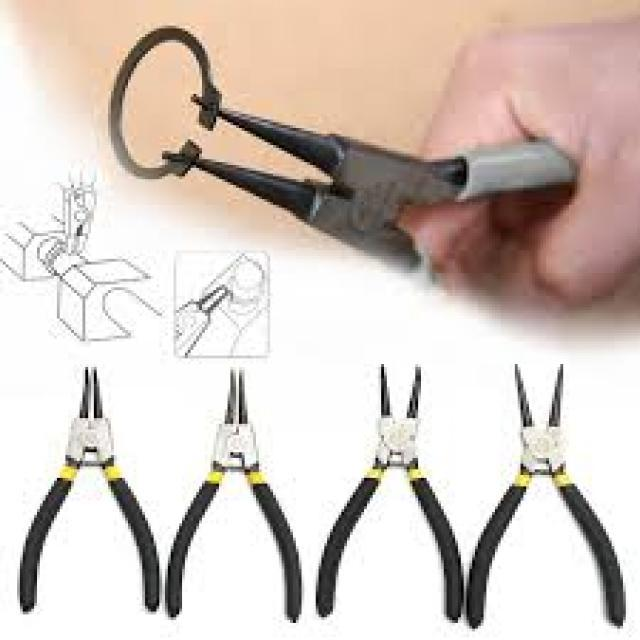pliers: (466, 356, 632, 638), (312, 360, 470, 625), (15, 363, 164, 621), (167, 363, 305, 622)
